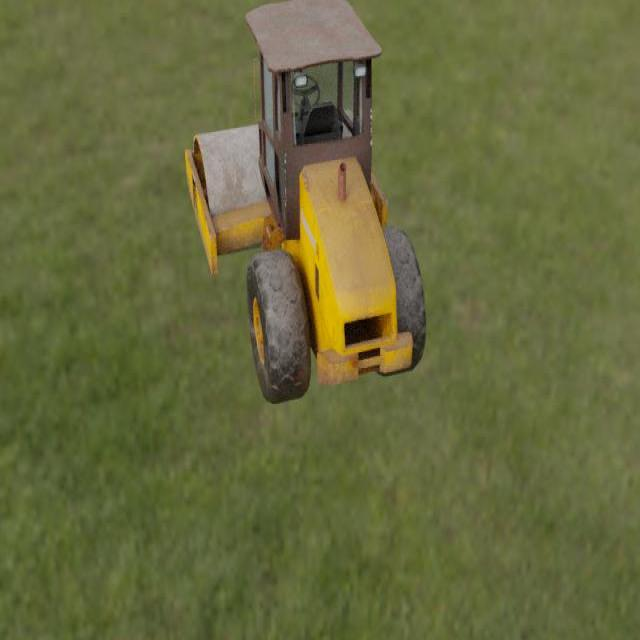Roller: (184, 0, 425, 405)
